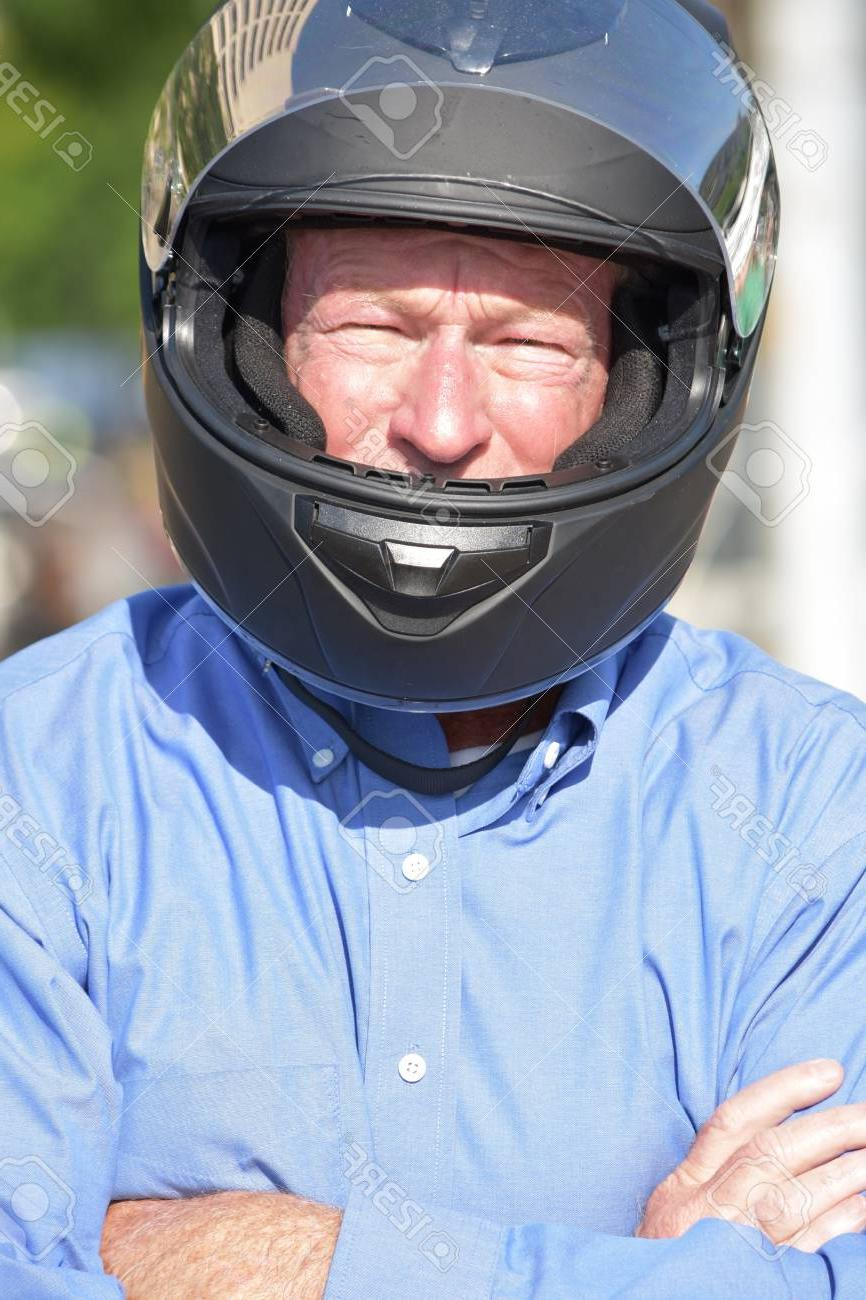Helmet: (130, 0, 779, 709)
